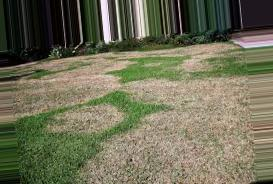patch: (146, 116, 252, 179), (21, 68, 109, 106), (150, 80, 244, 111), (101, 131, 150, 180), (44, 103, 121, 132), (164, 45, 246, 59), (68, 53, 125, 71), (186, 61, 207, 77)
